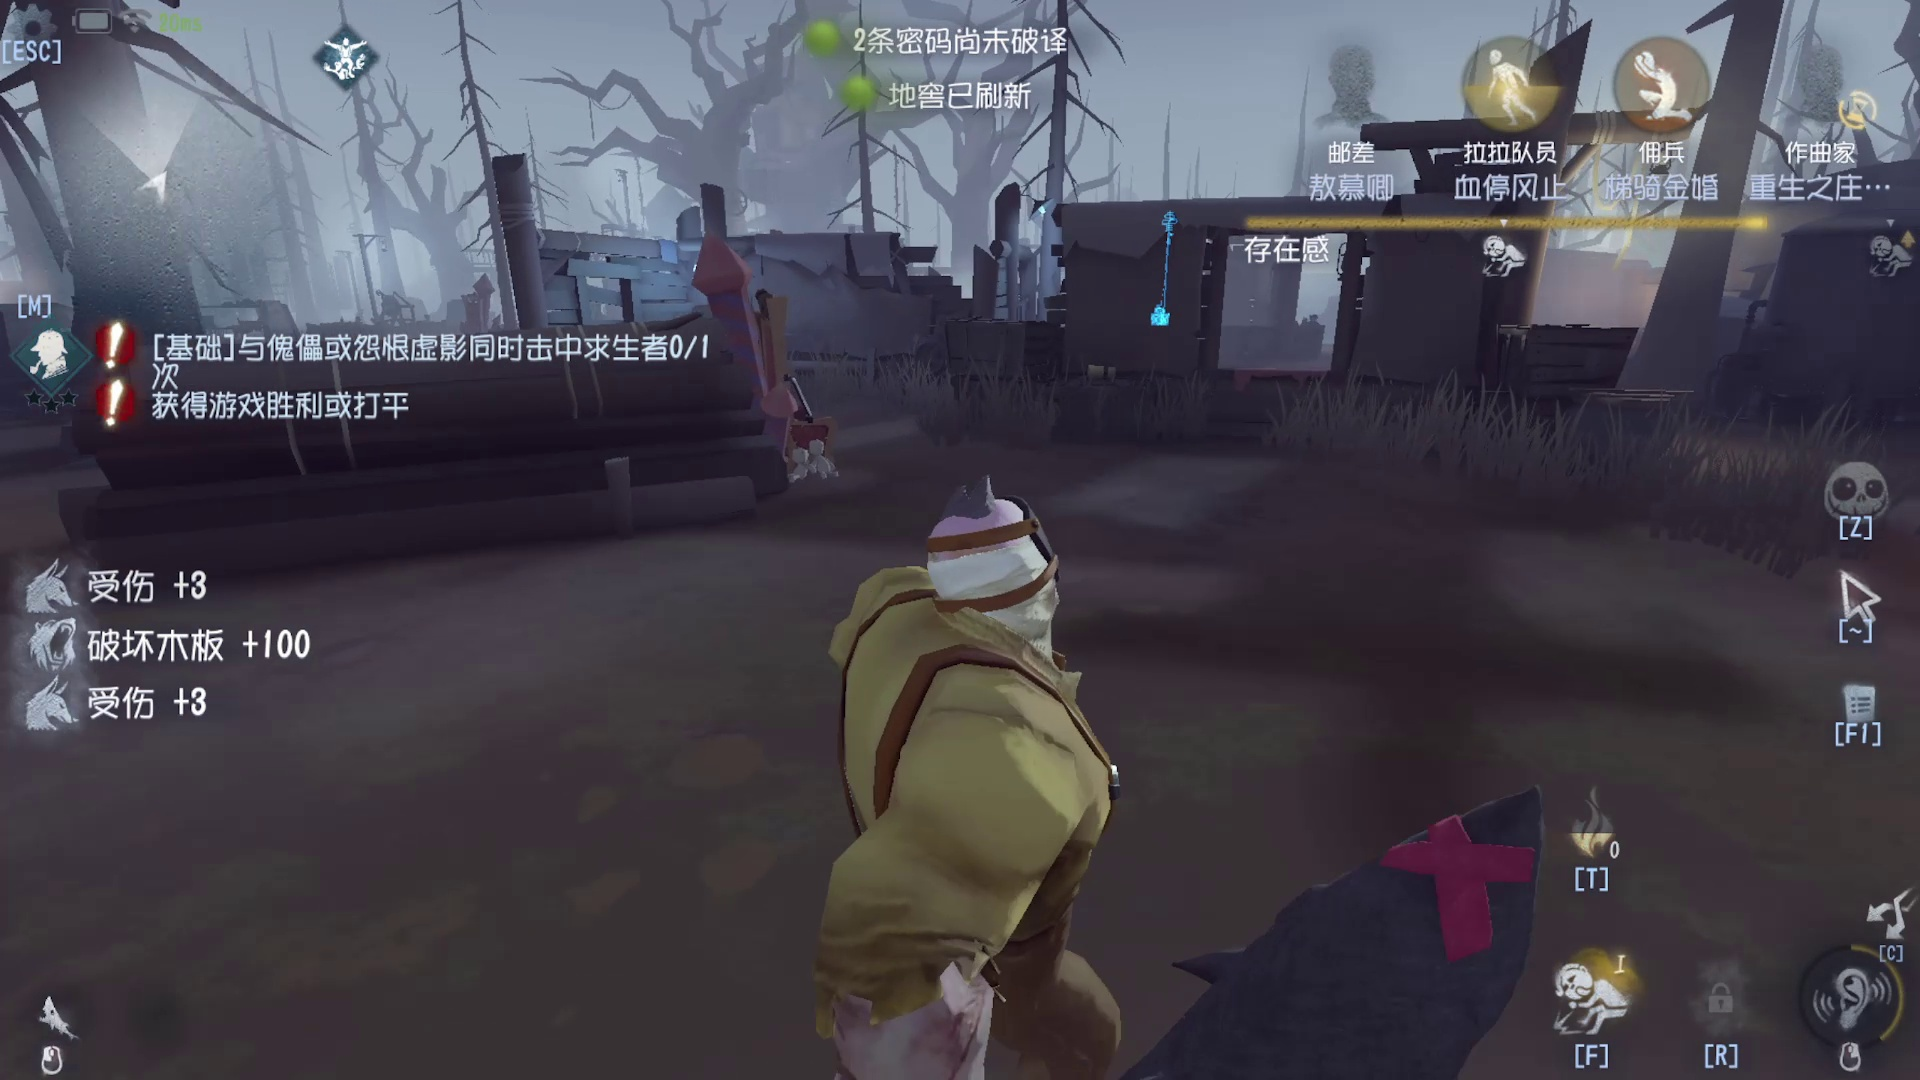密码机: (1149, 187, 1191, 347)
狂欢之椅: (678, 237, 851, 485)
